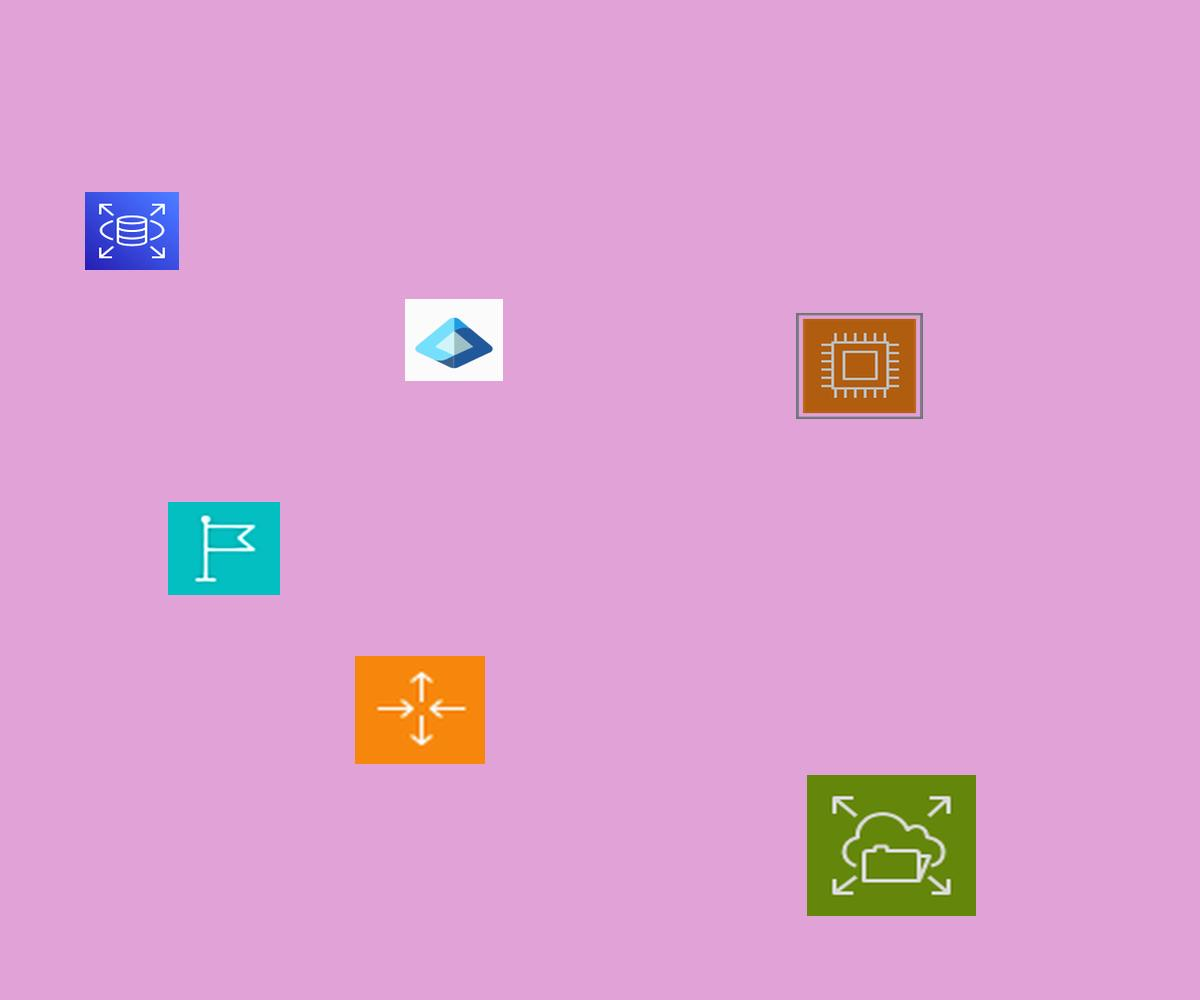AWS-Category_Compute: (796, 313, 923, 419)
AWS-EFS: (807, 775, 976, 916)
AWS-RDS: (85, 192, 179, 270)
AWS-Region: (168, 502, 280, 595)
AWS-Scaling-group: (355, 656, 485, 764)
Azure_microsoft_entra: (405, 299, 503, 381)
